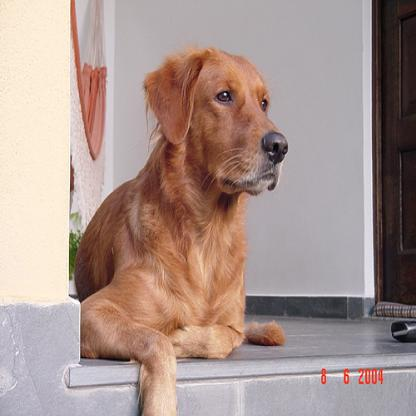dog: (74, 46, 289, 415)
